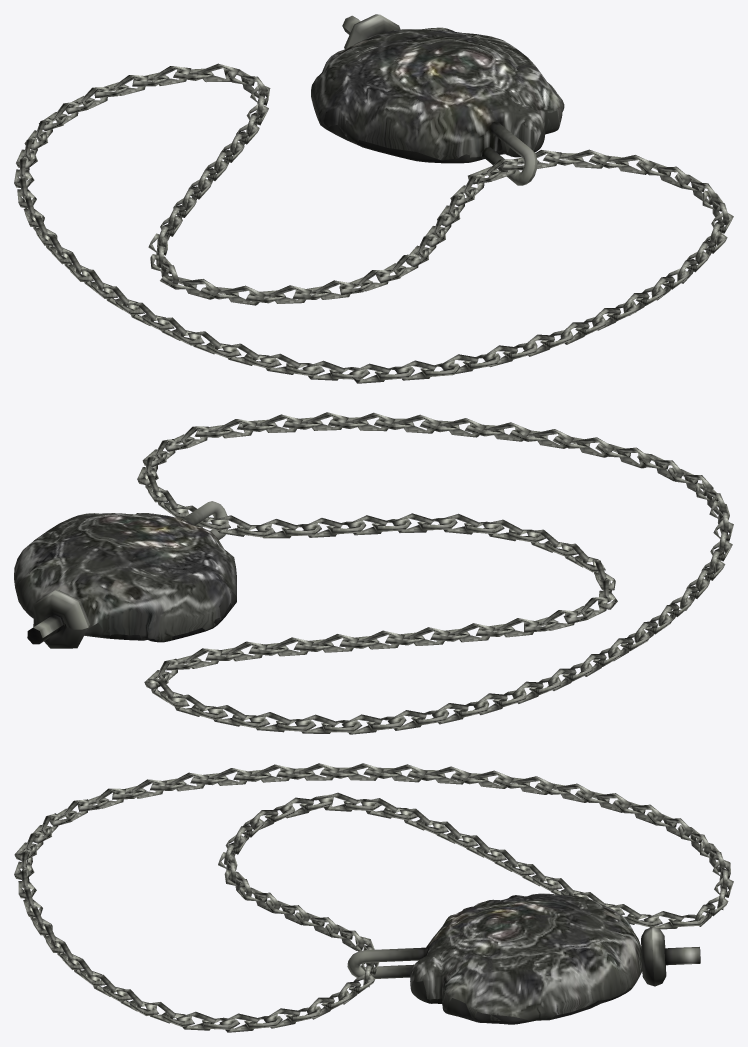
Rendered from scp427.fbx.
The picture shows the model from 3 angles, top to bottom: view 1: azimuth 30°, elevation 25°; view 2: azimuth 150°, elevation 25°; view 3: azimuth 270°, elevation 25°; orthographic projection. The views are drawn at different scales.
Visible parts, largest first — view 1: Scene_Root; view 2: Scene_Root; view 3: Scene_Root.
Part boxes in pixels (x1,y1,x2,y2): Scene_Root: (14,14,733,383); Scene_Root: (14,412,733,734); Scene_Root: (14,763,733,1032).
Bounding box in the file's own units: 177 × 21.15 × 206.
